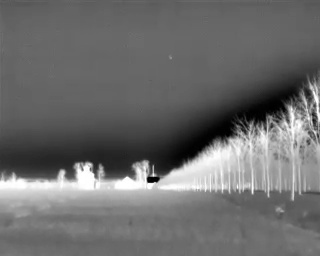BIRD: (167, 53, 174, 61)
